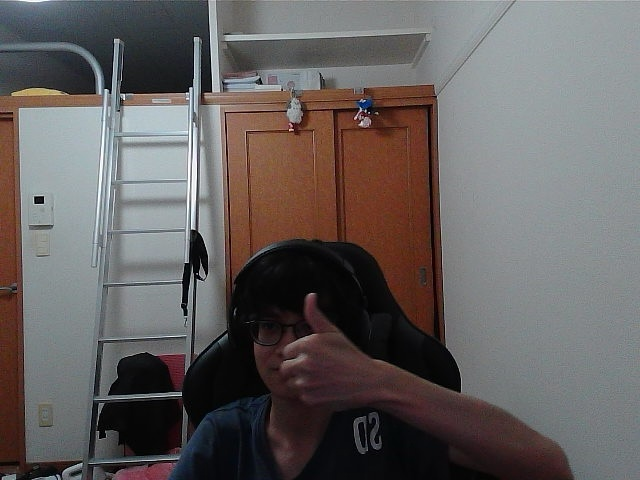thumb_up: (285, 299, 363, 398)
